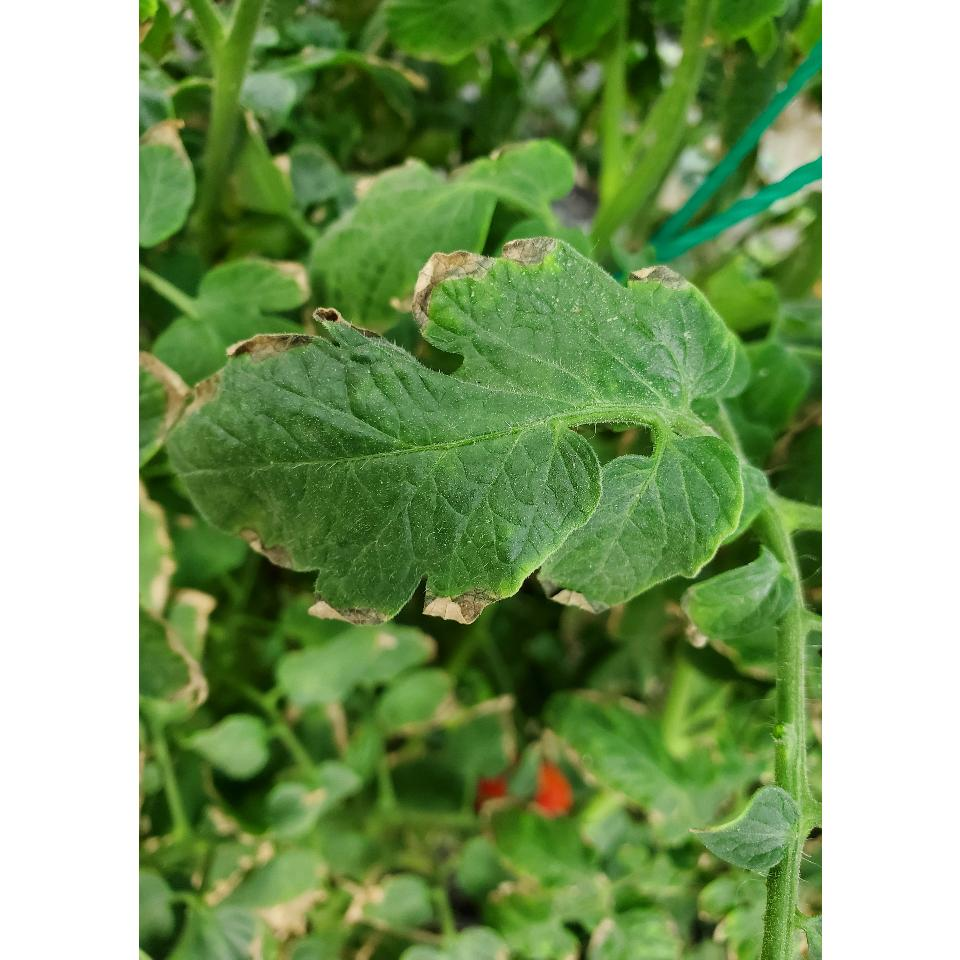tomato_bacterial_blight: (165, 229, 775, 627)
